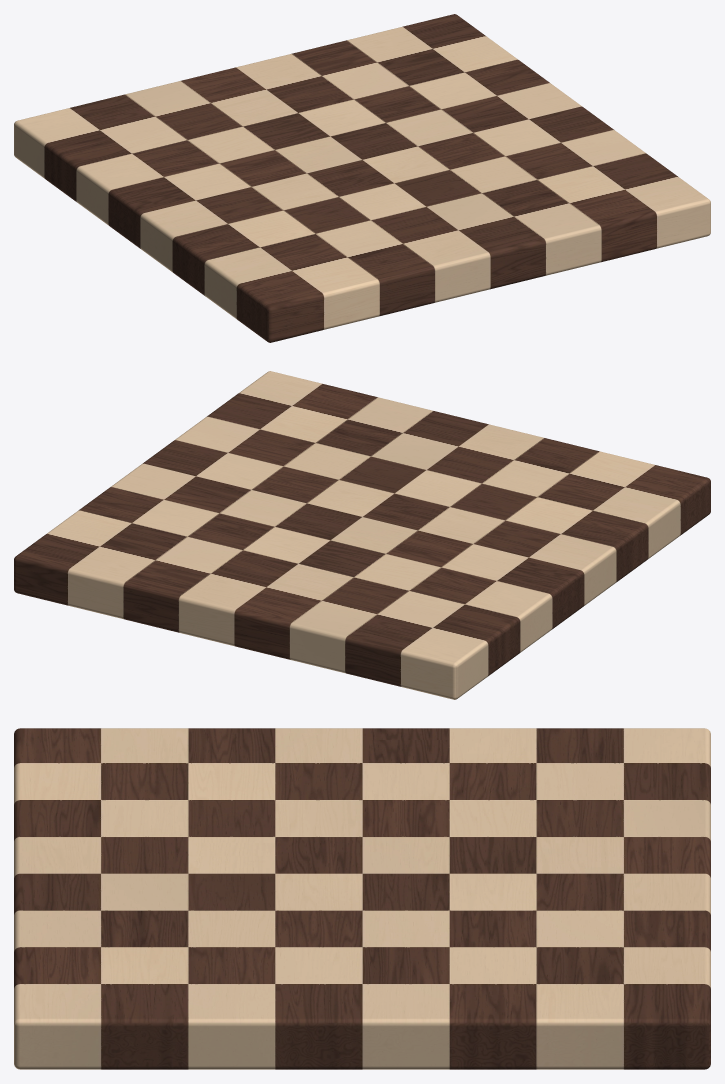
The model's file is board.glb.
3 renders of one model, top to bottom at view 1: azimuth 30°, elevation 25°; view 2: azimuth 150°, elevation 25°; view 3: azimuth 270°, elevation 25°, orthographic. The views are drawn at different scales.
Parts seen in each view (by area): view 1: Chessboard_Walnut_Maple; view 2: Chessboard_Walnut_Maple; view 3: Chessboard_Walnut_Maple.
Part boxes in pixels (x1,y1,x2,y2): Chessboard_Walnut_Maple: (14, 14, 710, 342); Chessboard_Walnut_Maple: (14, 371, 710, 699); Chessboard_Walnut_Maple: (14, 728, 710, 1069).
Bounding box in the file's own units: 8.02 × 0.6416 × 8.02.
Materials: 1 (1 with a texture image).
